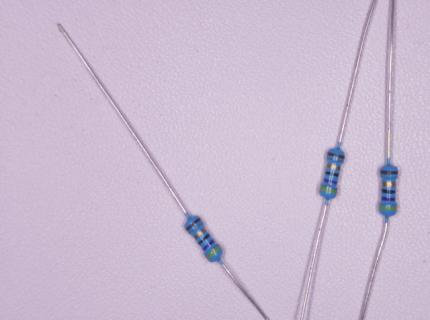Gold band: (193, 227, 207, 240), (326, 163, 340, 171), (382, 182, 396, 187)
Violet band: (201, 238, 216, 252), (322, 178, 338, 185), (381, 196, 396, 202)
Yellow band: (206, 246, 221, 260), (319, 186, 338, 194), (379, 206, 397, 210)
